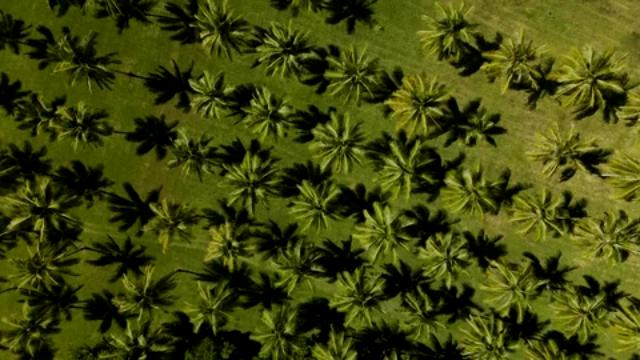trees: (551, 45, 636, 122), (6, 174, 85, 245), (45, 30, 123, 94), (383, 72, 455, 138), (482, 28, 552, 95), (219, 146, 285, 215), (526, 122, 600, 182), (8, 238, 83, 297), (308, 110, 374, 176), (324, 41, 392, 105), (480, 256, 549, 319), (352, 200, 417, 266), (373, 137, 437, 204), (440, 159, 511, 219), (417, 1, 483, 65), (116, 262, 181, 326), (253, 21, 321, 82), (189, 2, 260, 60), (331, 266, 394, 331), (17, 274, 88, 331), (194, 253, 267, 308), (509, 188, 579, 244), (552, 283, 615, 345), (573, 210, 640, 268), (140, 60, 212, 113), (270, 235, 333, 295), (421, 275, 491, 329), (418, 230, 479, 291), (286, 175, 348, 235), (2, 300, 65, 359), (90, 232, 160, 285), (95, 316, 178, 360), (107, 182, 172, 237), (240, 87, 301, 144), (51, 102, 116, 154), (397, 279, 453, 339), (186, 277, 241, 338), (52, 157, 116, 209), (234, 267, 299, 317), (125, 113, 190, 163), (144, 198, 201, 255), (251, 304, 309, 360), (3, 144, 62, 199), (203, 217, 260, 273), (455, 312, 521, 360), (84, 287, 141, 338), (358, 325, 440, 360), (167, 131, 223, 182), (188, 71, 242, 122), (457, 230, 514, 278), (157, 2, 217, 47), (517, 58, 568, 110), (86, 1, 162, 35), (453, 102, 506, 149), (20, 94, 69, 140), (17, 23, 68, 65), (404, 330, 473, 360), (532, 258, 579, 301), (604, 297, 640, 353), (601, 151, 640, 201), (504, 306, 550, 348), (1, 74, 39, 123), (325, 3, 381, 35), (309, 327, 361, 360), (596, 82, 635, 126), (1, 9, 35, 57), (79, 61, 120, 94), (386, 84, 421, 118), (2, 216, 30, 258), (527, 338, 579, 360), (198, 25, 232, 56), (109, 324, 139, 354), (203, 232, 227, 265), (277, 340, 311, 360), (48, 2, 78, 21), (95, 343, 128, 360), (76, 344, 109, 360), (344, 306, 365, 331), (27, 334, 46, 358), (501, 73, 515, 97), (52, 62, 77, 75), (246, 190, 258, 217), (543, 160, 559, 179), (462, 168, 474, 191), (464, 131, 479, 149)
